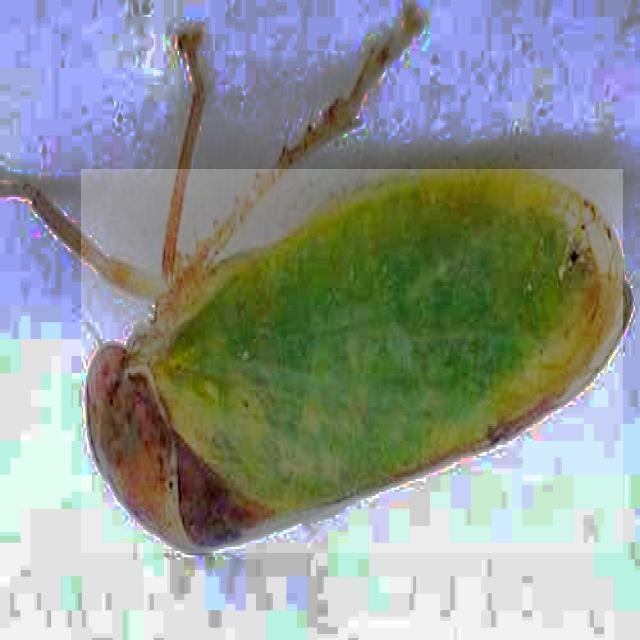green-leafhopper: (81, 169, 623, 553)
